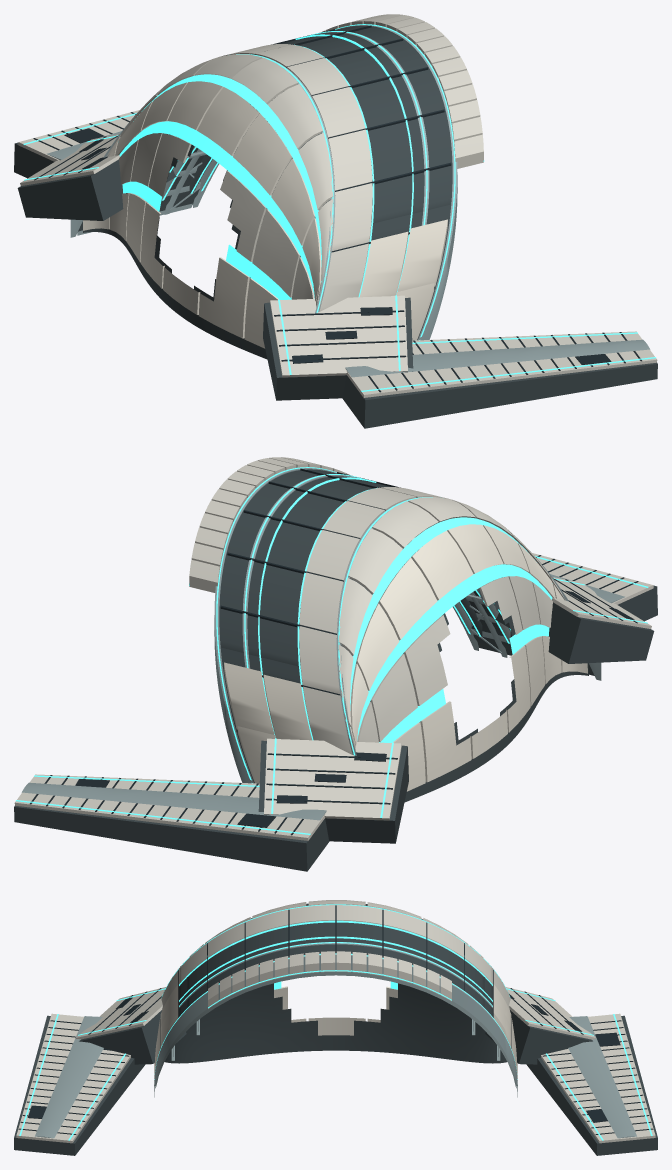
File: Weather_Lung_Chunk_Hood_Shell.glb
3 views of the same model, one above another, from view 1: azimuth 30°, elevation 25°; view 2: azimuth 150°, elevation 25°; view 3: azimuth 270°, elevation 25° (orthographic). The views are drawn at different scales.
Parts seen in each view (by area): view 1: Hood_Shell_Structure, Hood_Shell_Dressing; view 2: Hood_Shell_Structure, Hood_Shell_Dressing; view 3: Hood_Shell_Structure, Hood_Shell_Dressing.
Boxes of the visible parts, left/top/right/bottom form: Hood_Shell_Structure: left=14, top=14, right=657, bottom=428; Hood_Shell_Dressing: left=23, top=25, right=655, bottom=392; Hood_Shell_Structure: left=14, top=457, right=657, bottom=871; Hood_Shell_Dressing: left=16, top=468, right=648, bottom=835; Hood_Shell_Structure: left=14, top=900, right=657, bottom=1155; Hood_Shell_Dressing: left=18, top=905, right=653, bottom=1140.
Bounding box in the file's own units: 7509 × 4975 × 15429.
